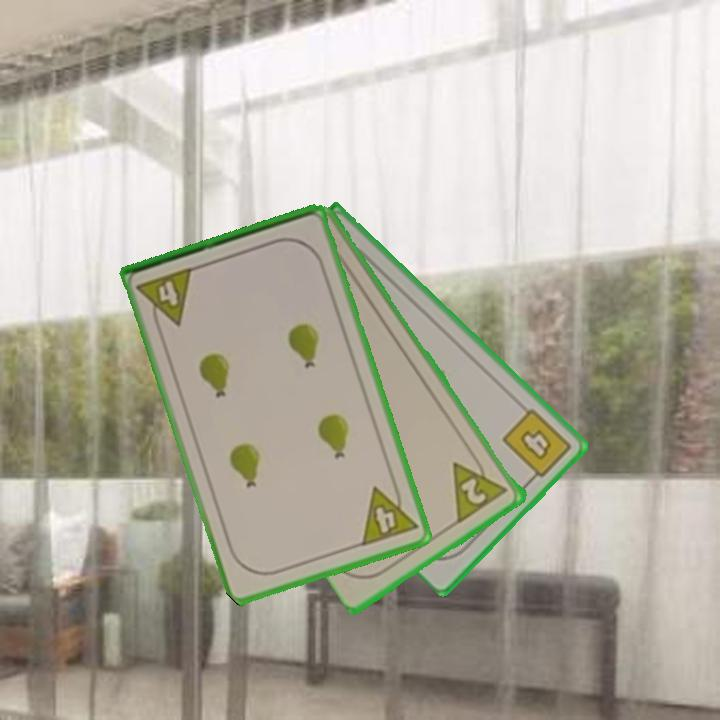2p: (449, 447, 511, 525)
4b: (499, 404, 575, 487)
4p: (133, 263, 197, 334), (357, 477, 420, 549)
